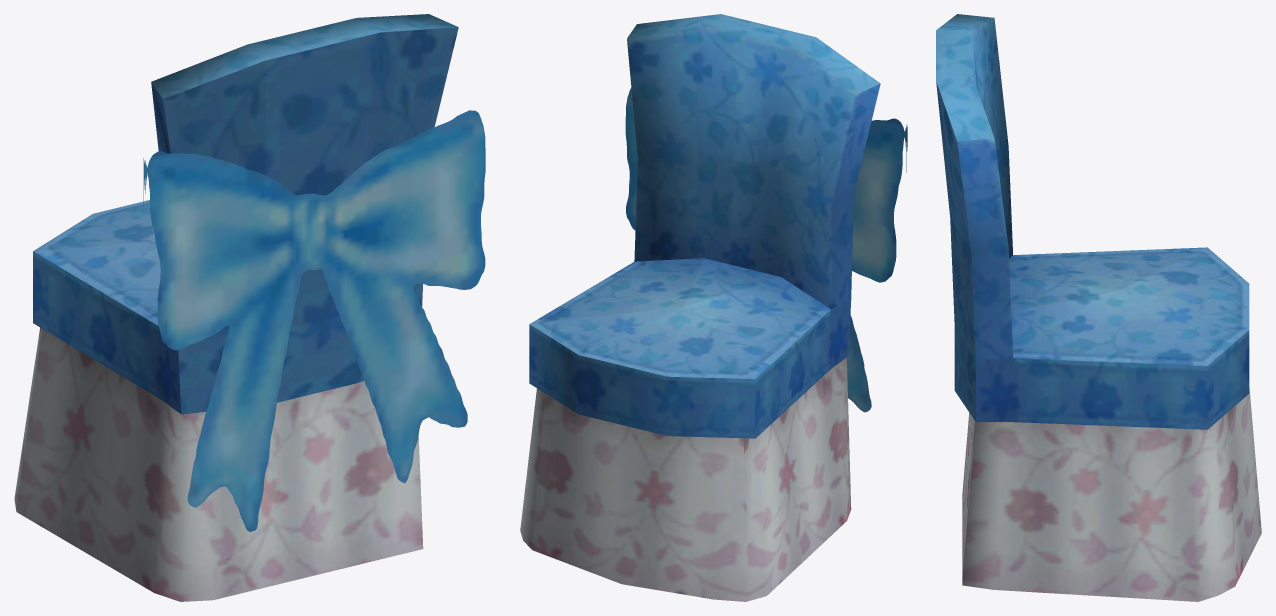
File: furni_0200036_03.FBX
The picture shows the model from 3 angles, left to right: view 1: azimuth 30°, elevation 25°; view 2: azimuth 150°, elevation 25°; view 3: azimuth 270°, elevation 25°; orthographic projection. The views are drawn at different scales.
Parts seen in each view (by area): view 1: furni_0200036_03; view 2: furni_0200036_03; view 3: furni_0200036_03.
Boxes of the visible parts, x1,y1,x2,y2 form: furni_0200036_03: [14, 14, 485, 601]; furni_0200036_03: [520, 14, 907, 601]; furni_0200036_03: [936, 14, 1261, 601].
Size of the model in its own units: 59.1 by 88.28 by 54.28.
1 material, 1 textured.
